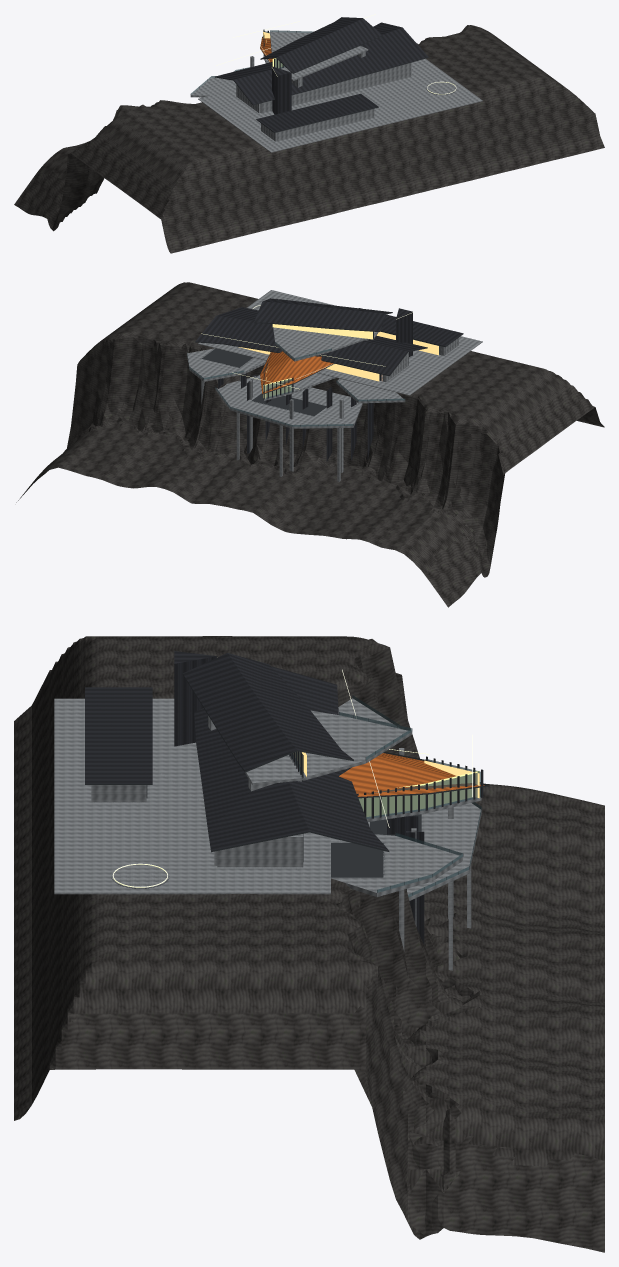
The model's file is ariel-home.glb.
3 renders of one model, top to bottom at view 1: azimuth 30°, elevation 25°; view 2: azimuth 150°, elevation 25°; view 3: azimuth 270°, elevation 25°, orthographic. The views are drawn at different scales.
Visible parts, largest first — view 1: Mansion_LOD0_mesh, Mansion_LOD1_mesh; view 2: Mansion_LOD0_mesh, Mansion_LOD1_mesh; view 3: Mansion_LOD0_mesh, Mansion_LOD1_mesh.
Part boxes in pixels (x1=…): Mansion_LOD0_mesh: x1=14, y1=14, x2=594, y2=252; Mansion_LOD1_mesh: x1=20, y1=27, x2=604, y2=253; Mansion_LOD0_mesh: x1=21, y1=282, x2=604, y2=607; Mansion_LOD1_mesh: x1=16, y1=285, x2=604, y2=601; Mansion_LOD0_mesh: x1=14, y1=636, x2=604, y2=1252; Mansion_LOD1_mesh: x1=14, y1=636, x2=604, y2=1244.
Bounding box in the file's own units: 400 × 163 × 250.
Materials: 9 (4 with a texture image).
